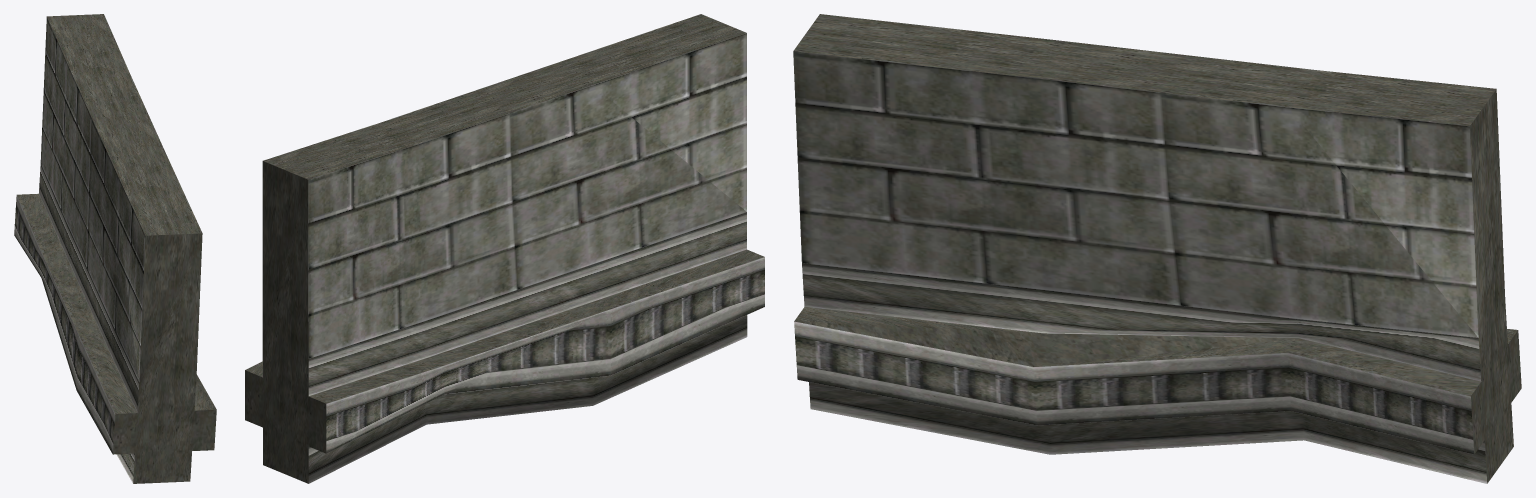
File: DWARF_PALACE_MAINHALL_BALK_DEBREE01.fbx
3 views of the same model, side by side, from view 1: azimuth 30°, elevation 25°; view 2: azimuth 150°, elevation 25°; view 3: azimuth 270°, elevation 25° (orthographic). The views are drawn at different scales.
Parts seen in each view (by area): view 1: DWARF_PALACE_MAINHALL_BALK_DEBREE01; view 2: DWARF_PALACE_MAINHALL_BALK_DEBREE01; view 3: DWARF_PALACE_MAINHALL_BALK_DEBREE01.
Boxes of the visible parts, left/top/right/bottom form: DWARF_PALACE_MAINHALL_BALK_DEBREE01: left=14, top=14, right=216, bottom=483; DWARF_PALACE_MAINHALL_BALK_DEBREE01: left=245, top=14, right=764, bottom=483; DWARF_PALACE_MAINHALL_BALK_DEBREE01: left=793, top=14, right=1521, bottom=483.
Size of the model in its own units: 22606 by 26886 by 44467.
4 materials, 4 textured.
